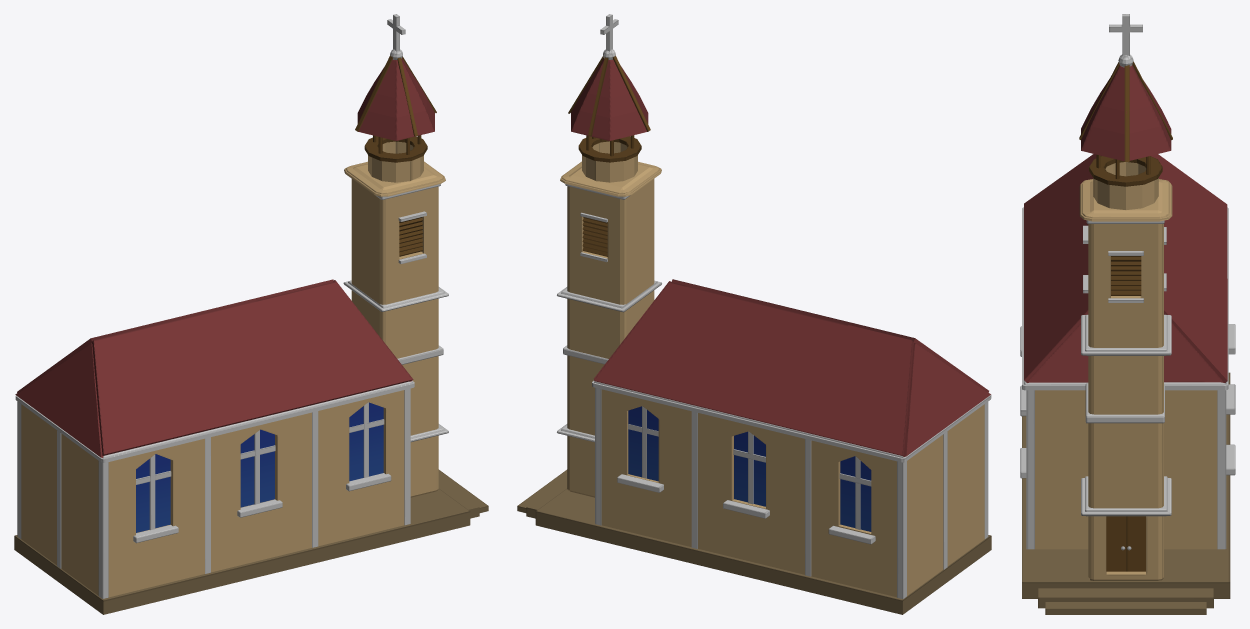
File: CUPIC_CHURCH.gltf
3 renders of one model, left to right at view 1: azimuth 30°, elevation 25°; view 2: azimuth 150°, elevation 25°; view 3: azimuth 270°, elevation 25°, orthographic. The views are drawn at different scales.
Visible parts, largest first — view 1: node-0; view 2: node-0; view 3: node-0.
Boxes of the visible parts, x1=… form: node-0: x1=14, y1=14, x2=488, y2=614; node-0: x1=517, y1=14, x2=991, y2=614; node-0: x1=1020, y1=14, x2=1235, y2=614.
Bounding box in the file's own units: 574 × 670 × 230.
Materials: 1 (1 with a texture image).
